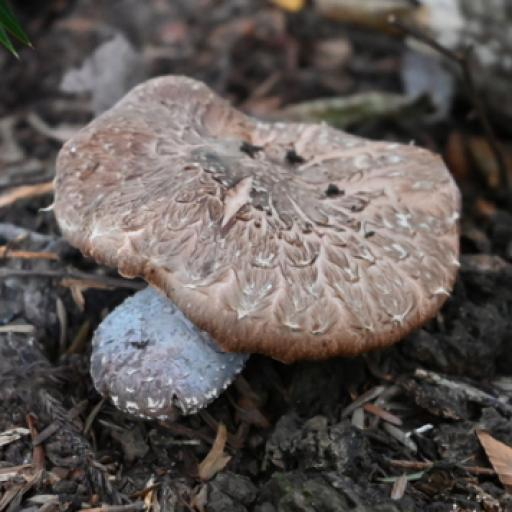Shiitake Mushroom: (31, 20, 492, 422)
